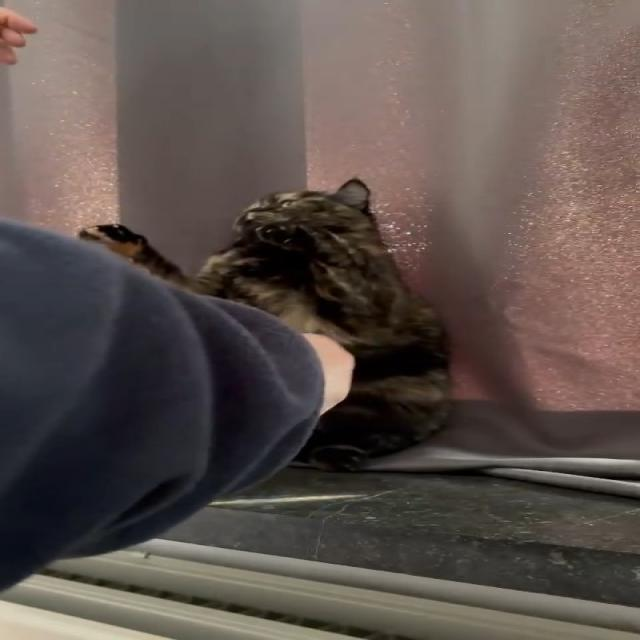authorized: (76, 176, 455, 472)
